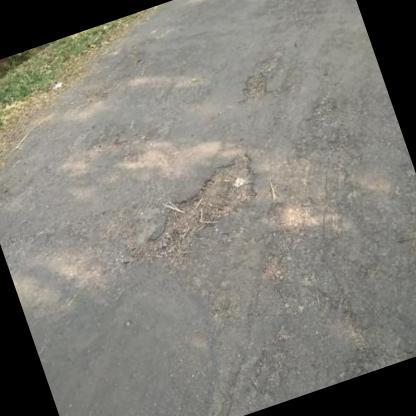pothole: (120, 146, 273, 264), (233, 54, 288, 104), (0, 183, 13, 206)
